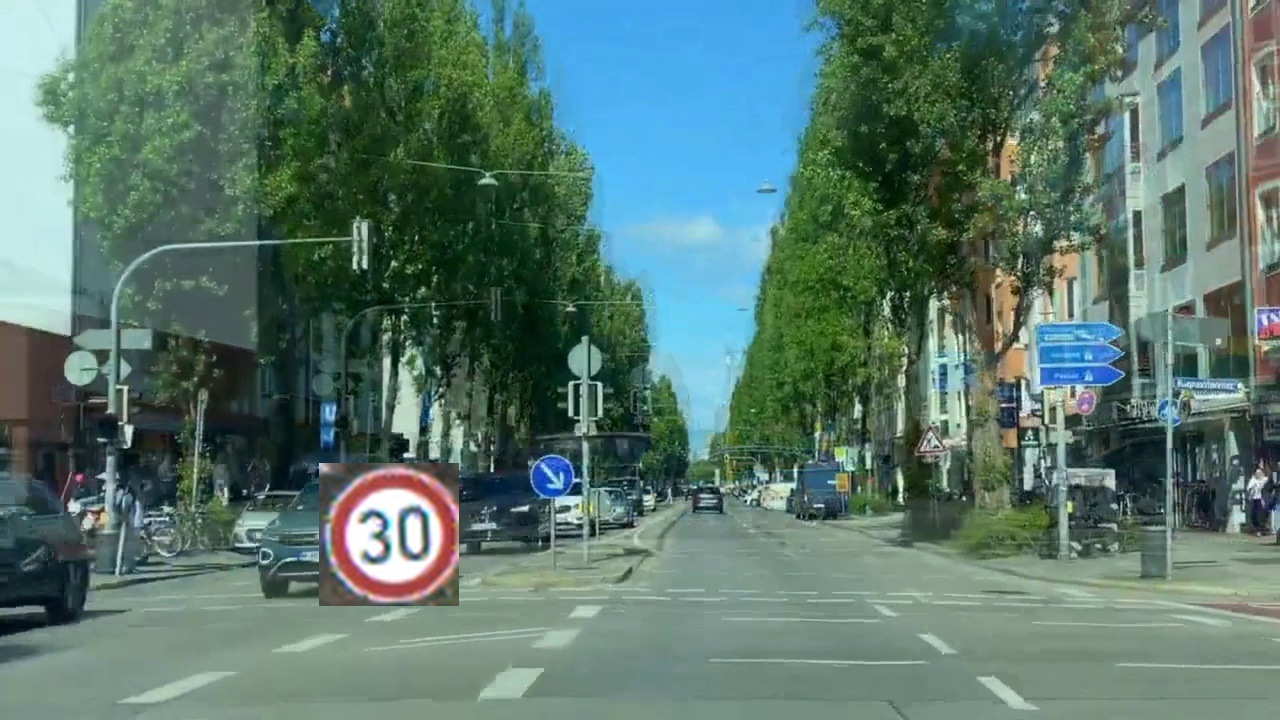Speed 30: (319, 463, 459, 606)
